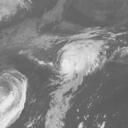cyclone: (56, 34, 101, 75)
